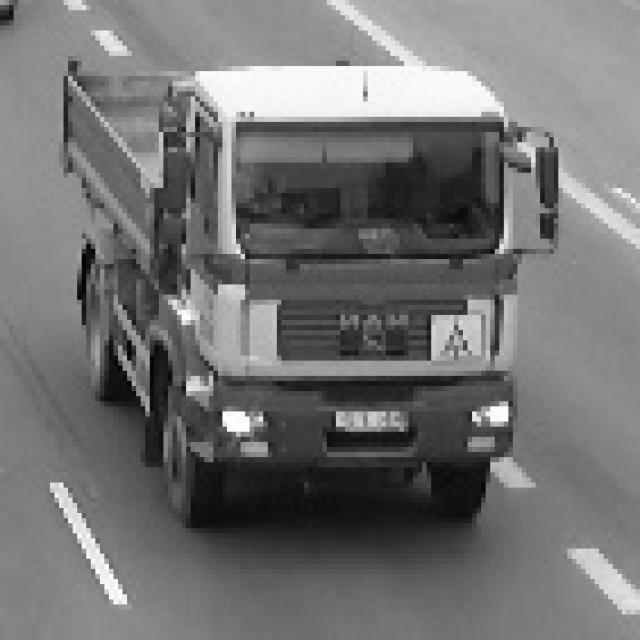truck: (128, 45, 555, 519)
